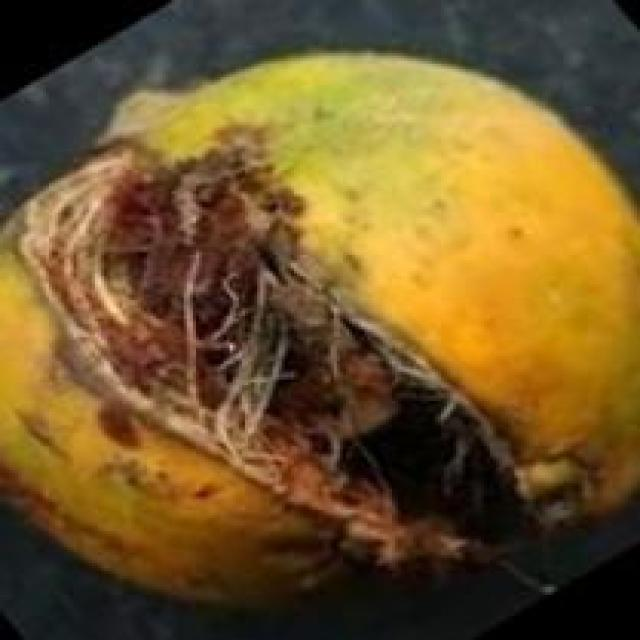damaged: (0, 45, 637, 624)
